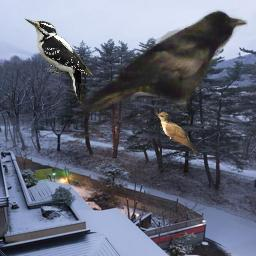Crow: (83, 9, 248, 112)
Cuckoo: (154, 112, 199, 156)
Woodpecker: (24, 16, 93, 106)
